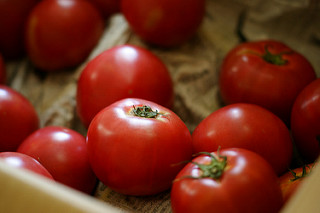tomato: (87, 95, 186, 190), (176, 149, 285, 213), (221, 40, 317, 104), (26, 1, 100, 68), (191, 104, 293, 150), (18, 124, 84, 174)
